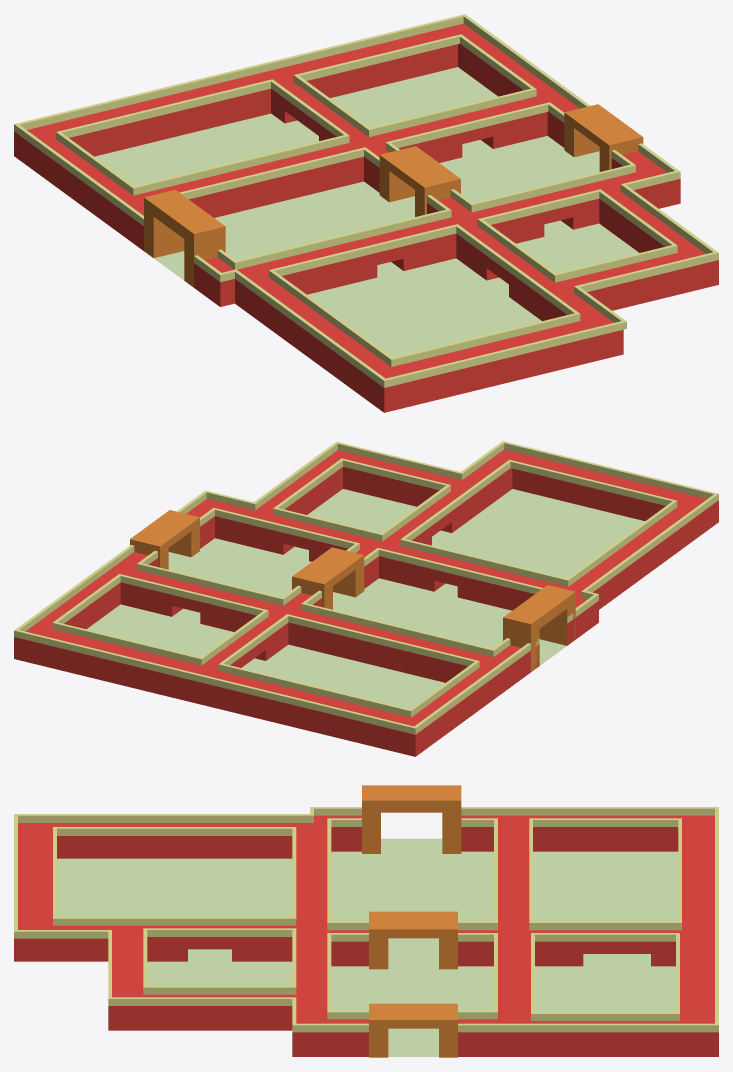
The model's file is ChineseLevelDesign.fbx.
3 views of the same model, one above another, from view 1: azimuth 30°, elevation 25°; view 2: azimuth 150°, elevation 25°; view 3: azimuth 270°, elevation 25° (orthographic). The views are drawn at different scales.
Visible parts, largest first — view 1: Cube.014, Cube, Cube.004; view 2: Cube.014, Cube, Cube.004; view 3: Cube.014, Cube, Cube.004.
Part boxes in pixels (left/top/right/bottom): Cube.014: left=14, top=23, right=718, bottom=412; Cube: left=14, top=14, right=718, bottom=387; Cube.004: left=144, top=104, right=643, bottom=287; Cube.014: left=14, top=449, right=718, bottom=756; Cube: left=14, top=441, right=718, bottom=734; Cube.004: left=130, top=510, right=575, bottom=671; Cube.014: left=14, top=815, right=718, bottom=1056; Cube: left=14, top=807, right=718, bottom=1032; Cube.004: left=362, top=785, right=461, bottom=1057.
Bounding box in the file's own units: 36239 × 4122 × 49315.
